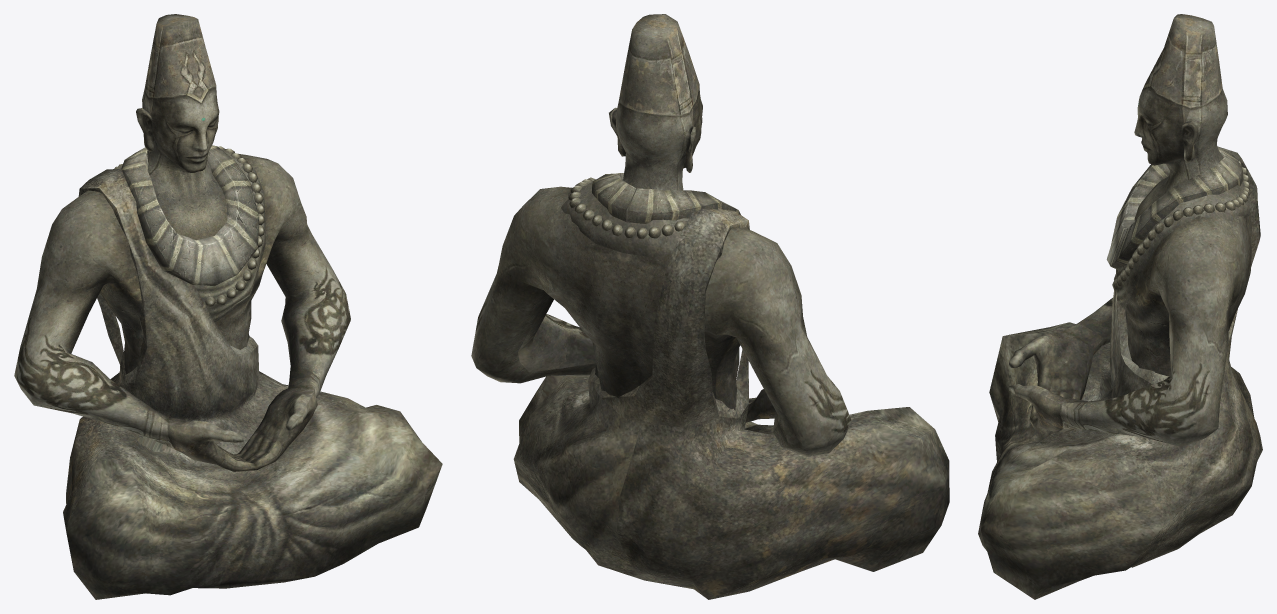
File: dawnmist_statue00.glb
3 views of the same model, side by side, from view 1: azimuth 30°, elevation 25°; view 2: azimuth 150°, elevation 25°; view 3: azimuth 270°, elevation 25° (orthographic). The views are drawn at different scales.
Visible parts, largest first — view 1: DawnMist_statue00; view 2: DawnMist_statue00; view 3: DawnMist_statue00.
Boxes of the visible parts, x1,y1,x2,y2 form: DawnMist_statue00: [14, 14, 442, 599]; DawnMist_statue00: [471, 14, 949, 599]; DawnMist_statue00: [978, 14, 1262, 599].
Bounding box in the file's own units: 12.52 × 16.52 × 8.39.
Materials: 1 (1 with a texture image).
